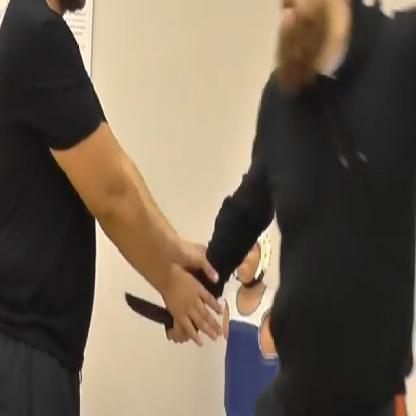knife: (122, 286, 204, 348)
